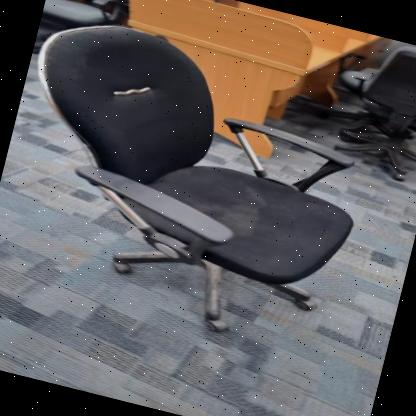chair: (0, 3, 389, 363)
